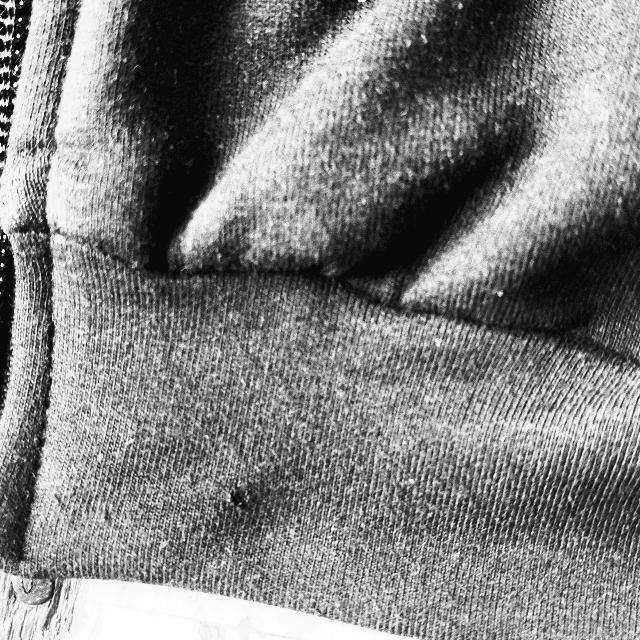Hole: (214, 479, 268, 520)
